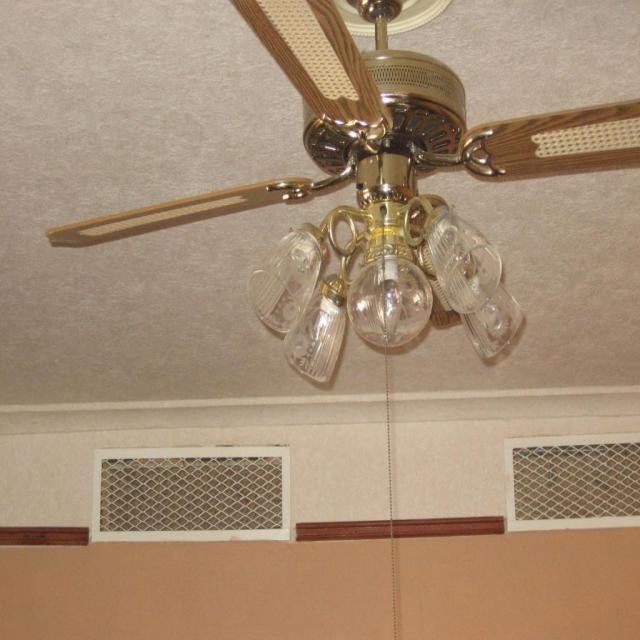bulb_off: (426, 215, 499, 307), (268, 236, 325, 302), (298, 296, 345, 371), (376, 259, 405, 344), (475, 295, 517, 348)
fan_off: (43, 0, 640, 247)
